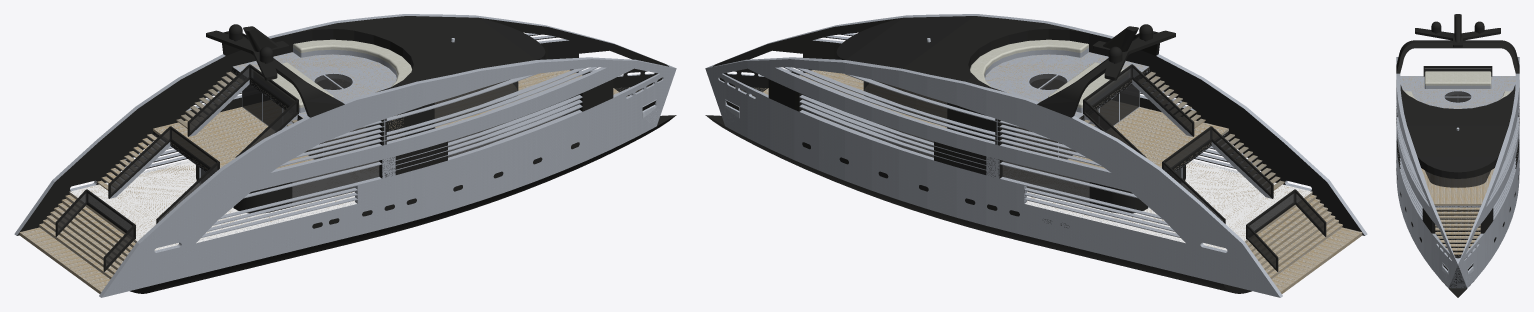
File: boat.dae
The picture shows the model from 3 angles, left to right: view 1: azimuth 30°, elevation 25°; view 2: azimuth 150°, elevation 25°; view 3: azimuth 270°, elevation 25°; orthographic projection. The views are drawn at different scales.
Parts seen in each view (by area): view 1: Yacht_by_Norman_Foster__Ocean_Emerald_ (×30); view 2: Yacht_by_Norman_Foster__Ocean_Emerald_ (×34); view 3: Yacht_by_Norman_Foster__Ocean_Emerald_ (×31).
Boxes of the visible parts, x1,y1,x2,y2 form: Yacht_by_Norman_Foster__Ocean_Emerald_ (×30): [14, 14, 676, 297]; Yacht_by_Norman_Foster__Ocean_Emerald_ (×34): [705, 14, 1367, 297]; Yacht_by_Norman_Foster__Ocean_Emerald_ (×31): [1396, 14, 1519, 297].
Bounding box in the file's own units: 1614 × 394 × 554.
Materials: 7 (4 with a texture image).
